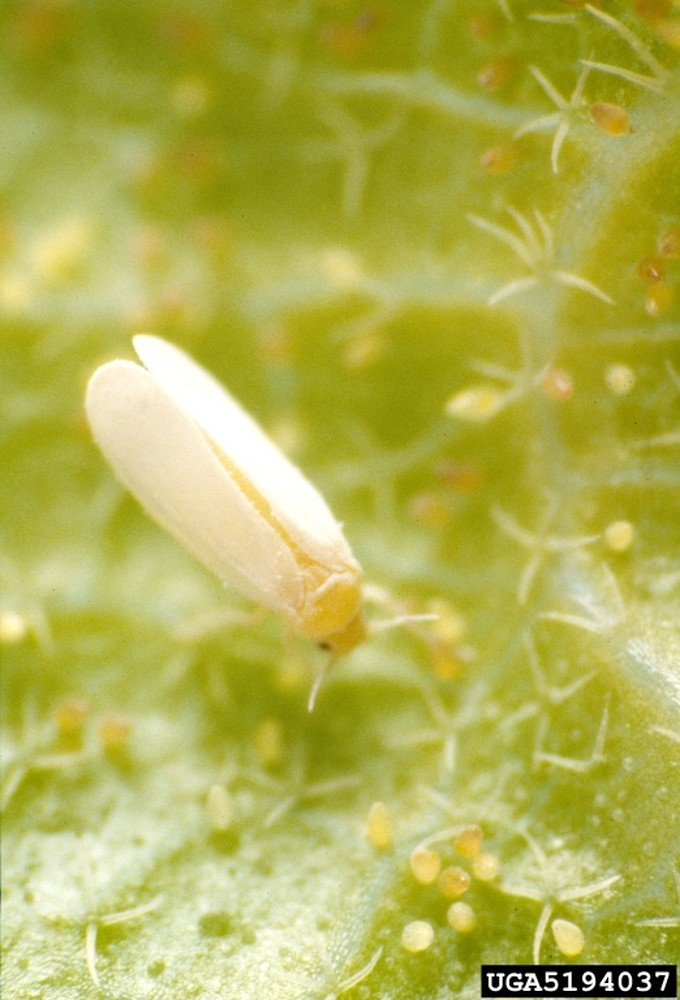Mosca Blanca: (71, 323, 457, 734)
